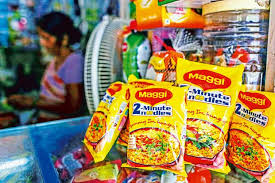maggie: (173, 58, 239, 176), (129, 86, 183, 172), (227, 88, 274, 176), (83, 83, 126, 161)
